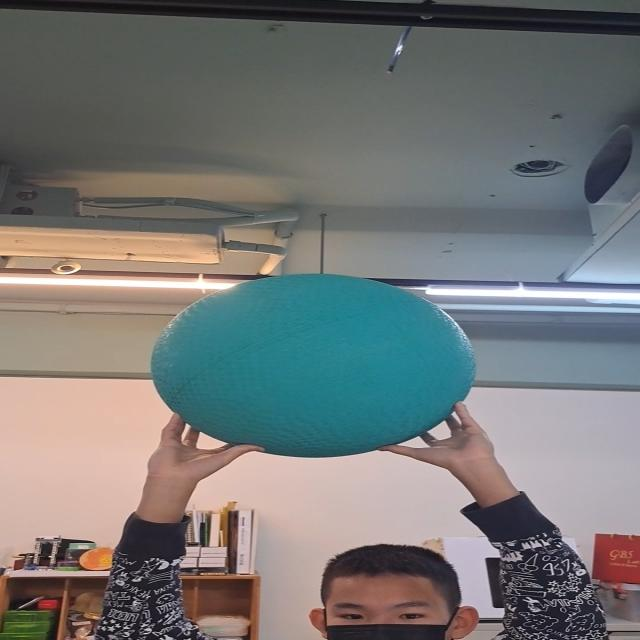ALGAE: (156, 275, 477, 457)
